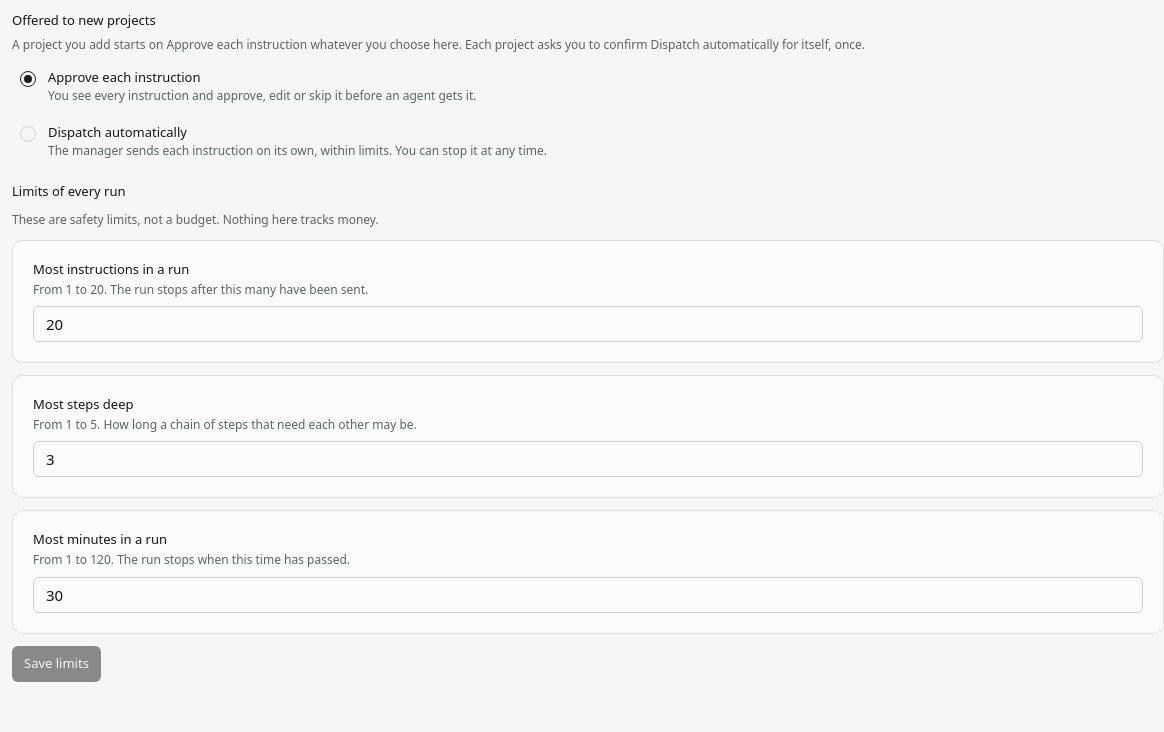
the default mode and the limits for new projects › shows the limits with their bounds, saves a change, and says it was saved
Expected: the element with test id "orchestration-defaults" shows "These are safety limits, not a budget. Nothing here tracks money.", [12,211,379,228]
Replace the text in the number field with test id "orchestration-limit-maxInstructions" with "5" at coordinates (588, 324), box [33,306,1143,342]
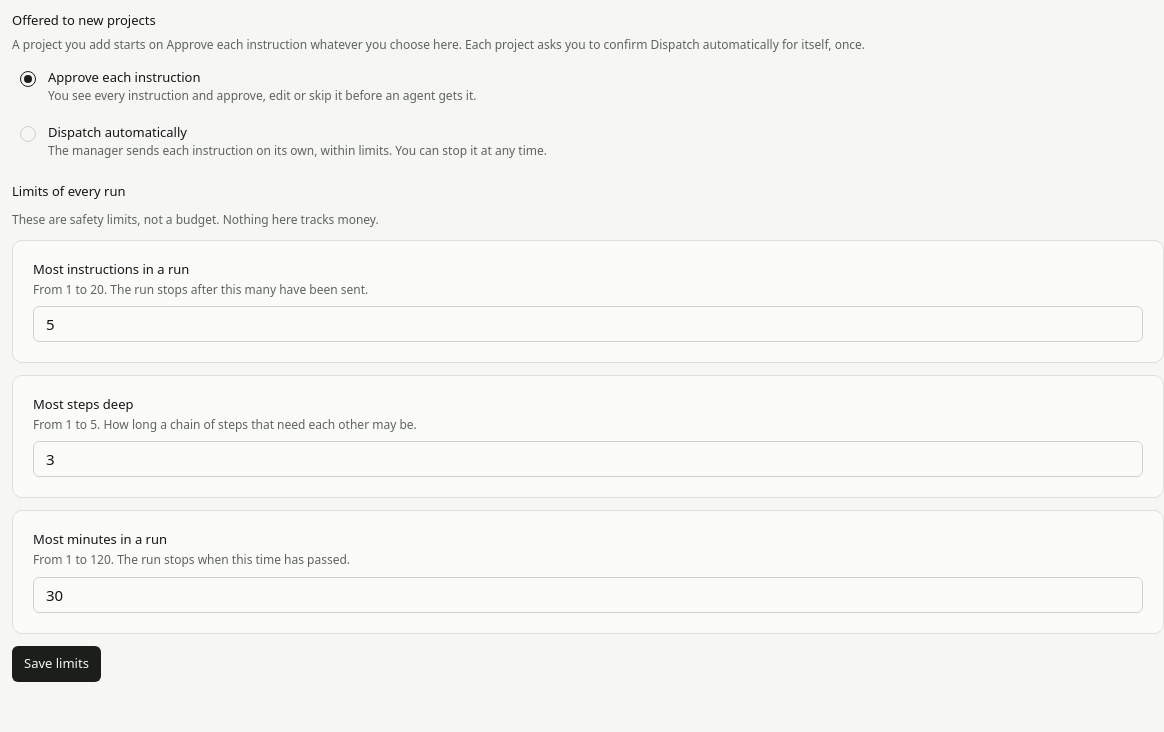
Click the button with test id "orchestration-limits-save" at coordinates (56, 664), box [12,646,101,682]
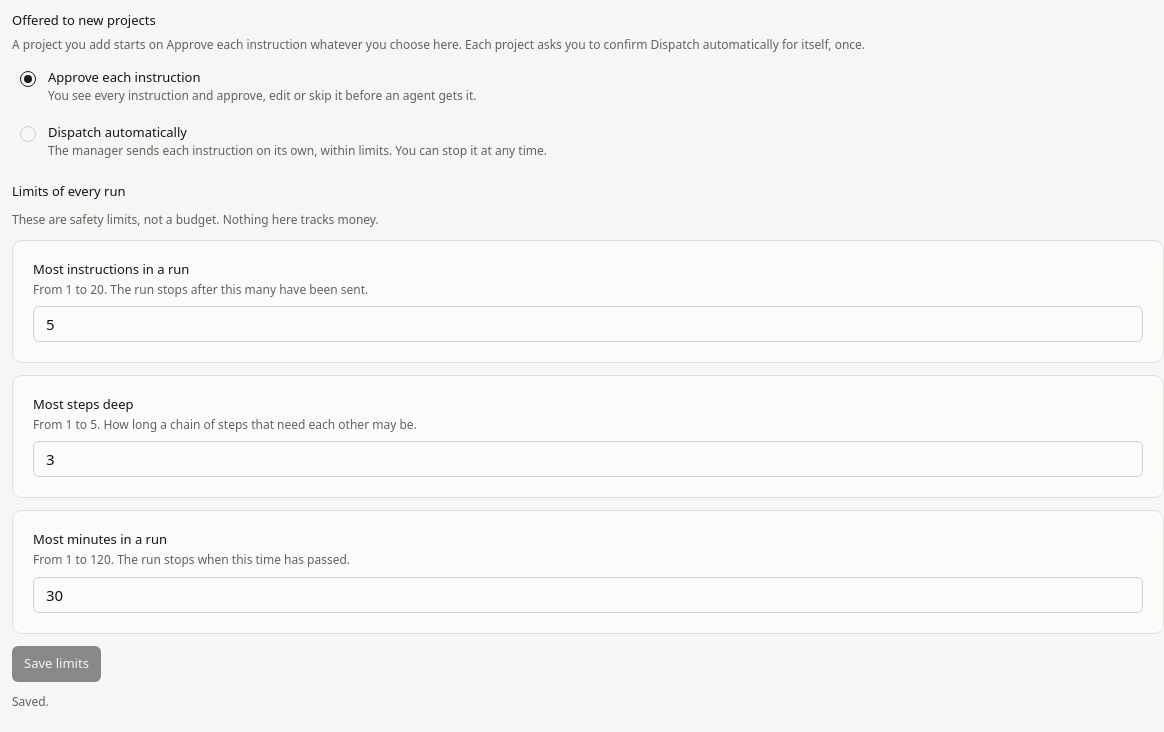
Now the message with test id "orchestration-defaults-status" reads "Saved.", box [12,692,49,710]
